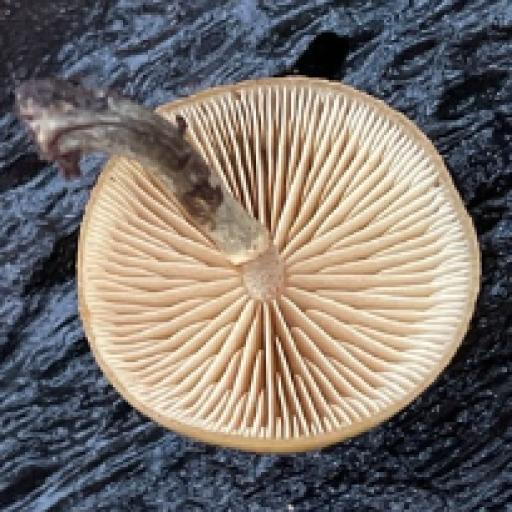Funeral Bell: (19, 48, 486, 457)
